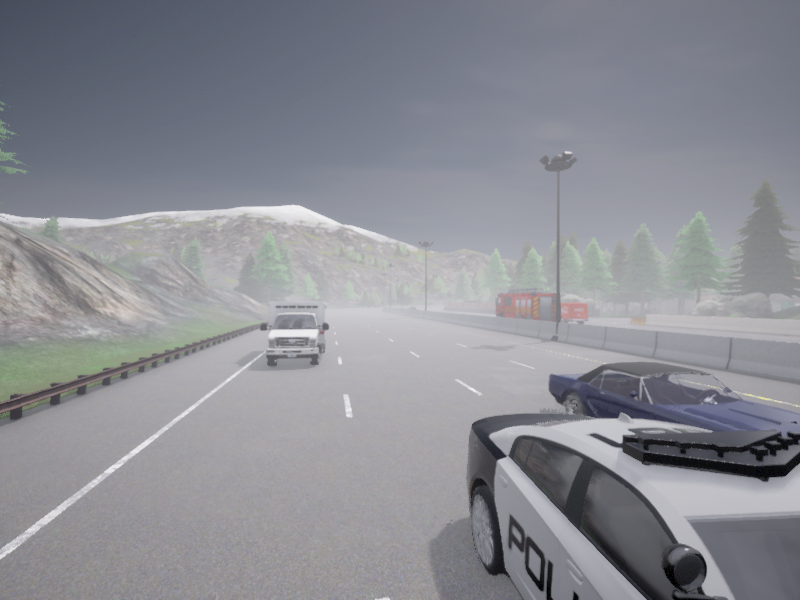vehicle: (465, 412, 799, 599), (548, 362, 799, 442), (260, 302, 328, 366), (495, 288, 556, 321), (560, 303, 588, 323), (407, 306, 415, 309), (399, 306, 404, 308)
